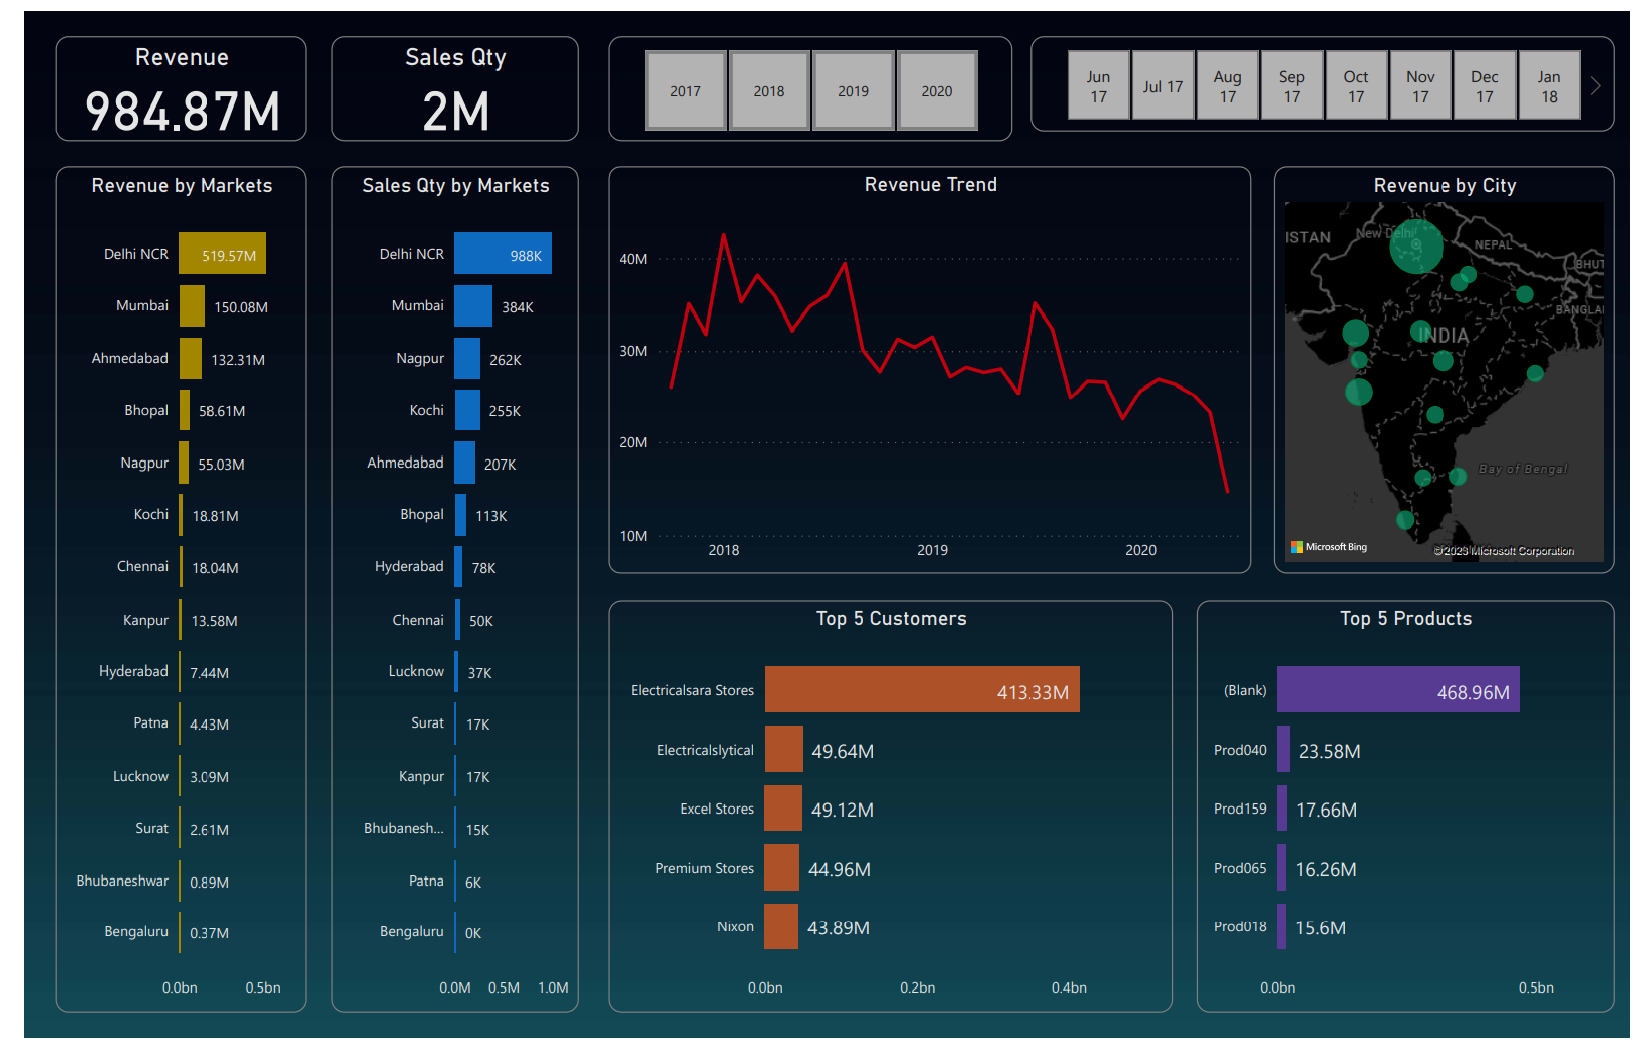

Layout of this report page (visuals, bound fields, positions):
{"tool":"powerbi","page":{"name":"Page 1","canvas":[1350,850],"ordinal":0},"visuals":[{"type":"card","title":"Revenue","fields":{"Values":["BaseMeasures.Revenue"]},"box":[26.2,19.9,210.4,87.9],"z":0},{"type":"card","title":"Sales Qty","fields":{"Values":["BaseMeasures.Sales Qty"]},"box":[257.5,19.9,208.3,87.9],"z":1000},{"type":"barChart","title":"Revenue by Markets","fields":{"Y":["BaseMeasures.Revenue"],"Category":["sales markets.markets_name"]},"box":[26.2,128.8,210.4,701.4],"z":2000},{"type":"barChart","title":"Sales Qty by Markets","fields":{"Y":["BaseMeasures.Sales Qty"],"Category":["sales markets.markets_name"]},"box":[257.5,128.8,208.3,701.4],"z":3000},{"type":"slicer","fields":{"Values":["sales date.year"]},"box":[490.9,19.9,340.2,87.9],"z":4000},{"type":"slicer","fields":{"Values":["sales date.cy_date"]},"box":[846.9,19.9,490.9,79.6],"z":5000},{"type":"barChart","title":"Top 5 Customers","fields":{"Y":["BaseMeasures.Revenue"],"Category":["sales customers.custmer_name"]},"box":[490.9,486.8,475.2,343.3],"z":6000},{"type":"barChart","title":"Top 5 Products","fields":{"Y":["BaseMeasures.Revenue"],"Category":["sales products.product_code"]},"box":[986.1,486.8,351.7,343.3],"z":7000},{"type":"lineChart","title":"Revenue Trend","fields":{"Y":["BaseMeasures.Revenue"],"Category":["sales date.cy_date"]},"box":[490.9,128.8,541.2,337.1],"z":8000},{"type":"map","title":"Revenue by City","fields":{"Category":["sales markets.markets_name"],"Size":["BaseMeasures.Revenue"]},"box":[1051,128.8,286.8,337.1],"z":9000}]}

Visuals, with their boxes in screenshot pixels (x1, y1, x2, y2), scaled from the page's 1350x850 canvas onto the 1651x1059 screenshot:
"Revenue" card: 32 25 289 134
"Sales Qty" card: 315 25 570 134
"Revenue by Markets" barChart: 32 160 289 1034
"Sales Qty by Markets" barChart: 315 160 570 1034
slicer - sales date.year: 600 25 1016 134
slicer - sales date.cy_date: 1036 25 1636 124
"Top 5 Customers" barChart: 600 606 1182 1034
"Top 5 Products" barChart: 1206 606 1636 1034
"Revenue Trend" lineChart: 600 160 1262 580
"Revenue by City" map: 1285 160 1636 580
